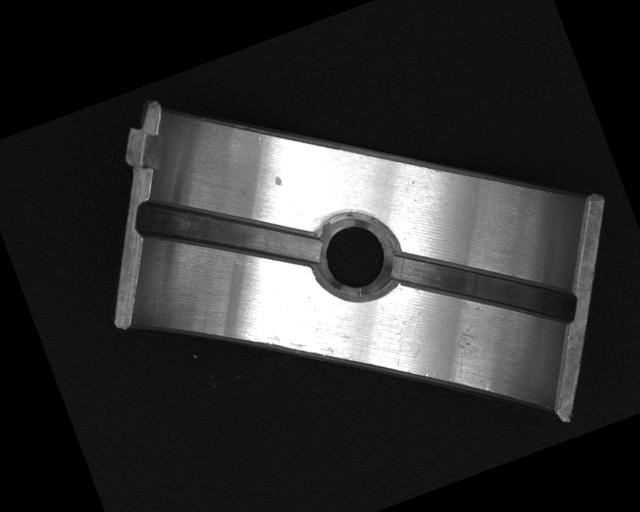bruise: (271, 172, 285, 187)
gap: (387, 202, 582, 373), (129, 150, 325, 318)
hole: (309, 205, 405, 307)
